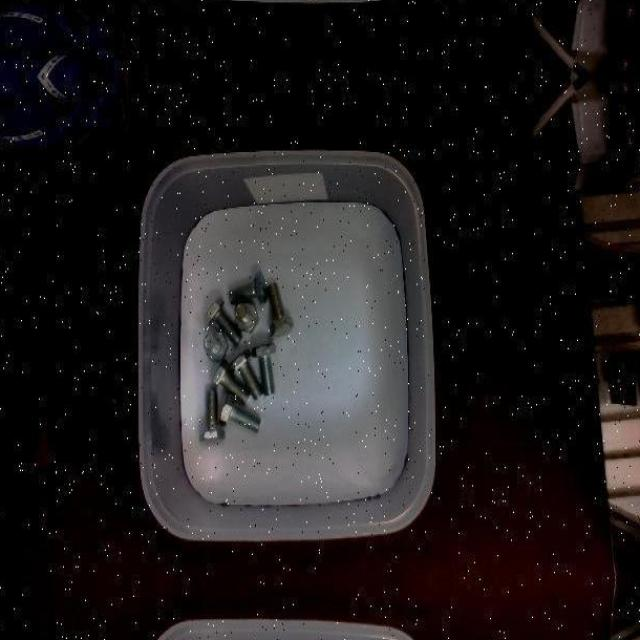screw: (204, 295, 244, 345), (218, 392, 261, 433), (230, 346, 262, 399), (212, 359, 250, 402), (200, 386, 226, 442), (268, 280, 294, 335), (252, 341, 277, 394), (228, 270, 268, 303), (234, 300, 258, 331), (204, 330, 228, 360)
